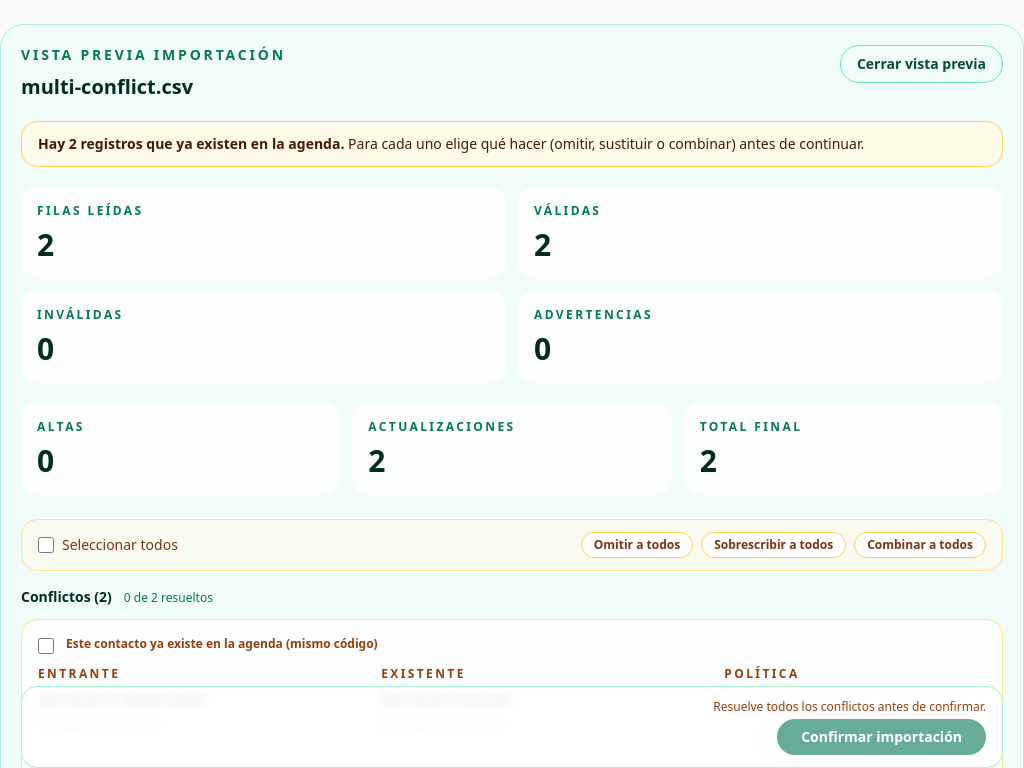
Test case: CsvImportPreviewPanel › conflict multi-select and bulk-apply › shows bulk-apply controls only when at least one conflict is selected
Check: the button "Aplicar a seleccionados" is not shown
Select one conflict
Click the checkbox named "Seleccionar Servicio A importado": point(46, 646) [38,638,54,654]
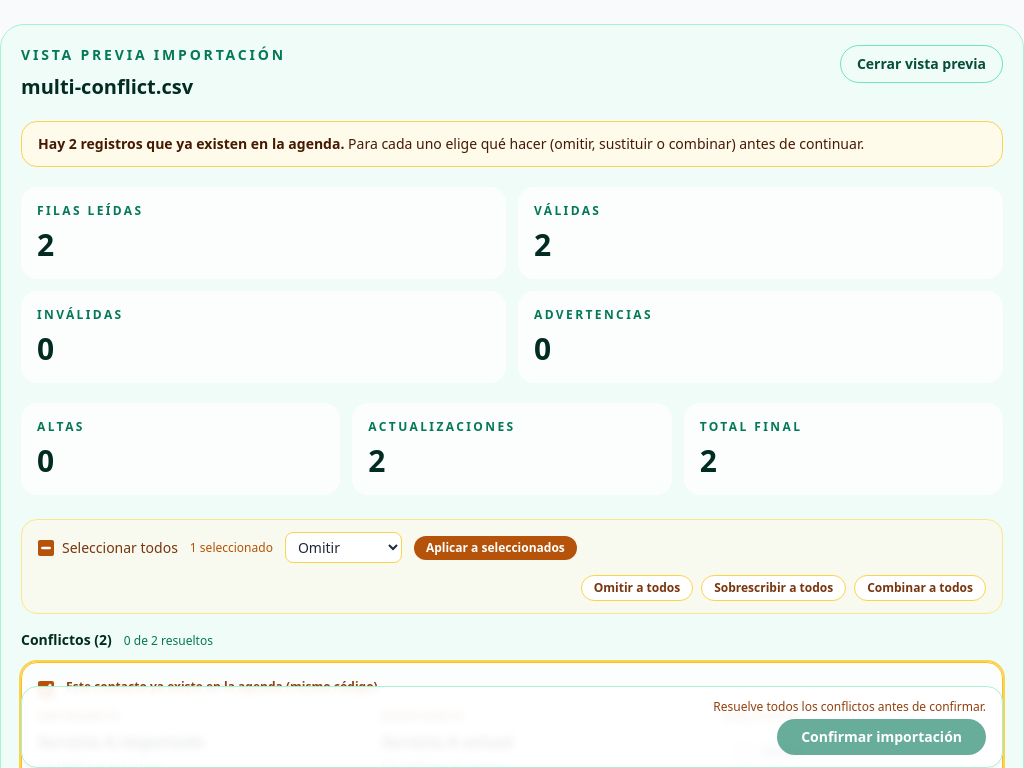
Check: the button "Aplicar a seleccionados" is shown, box [414,536,577,560]
Check: the dropdown named "Política para seleccionados" is shown, box [285,532,402,563]
